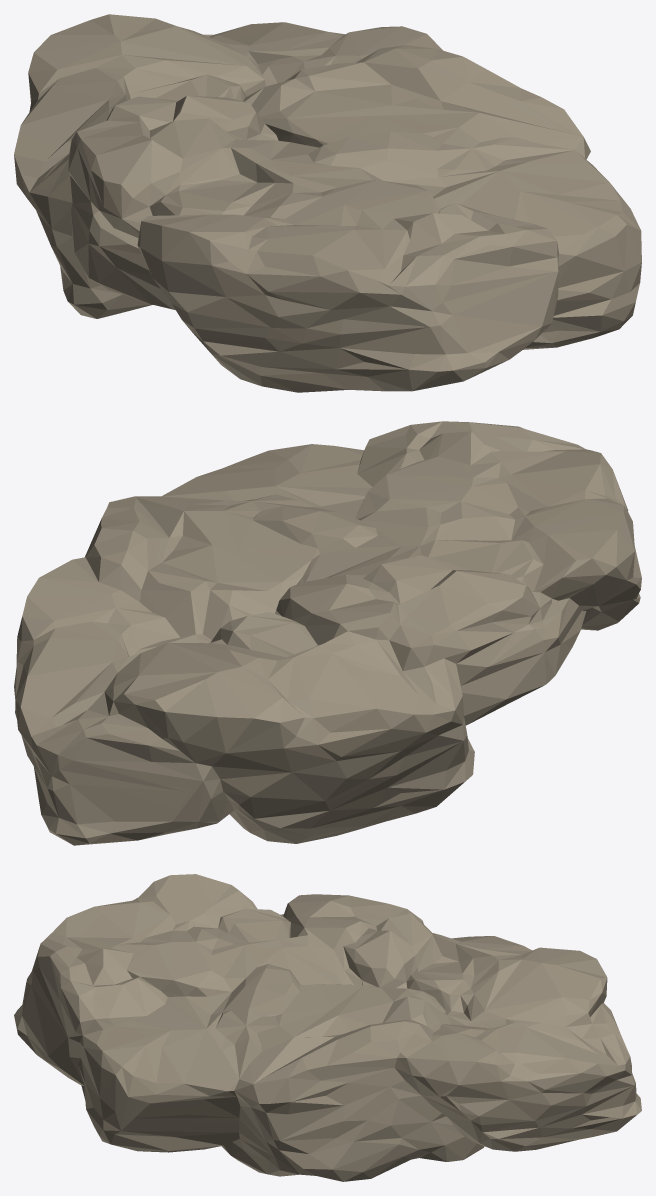
Rendered from SM_Rock_Cluster_Large_02.glb.
The picture shows the model from 3 angles, top to bottom: view 1: azimuth 30°, elevation 25°; view 2: azimuth 150°, elevation 25°; view 3: azimuth 270°, elevation 25°; orthographic projection. The views are drawn at different scales.
Visible parts, largest first — view 1: SM_Rock_Cluster_Large_02; view 2: SM_Rock_Cluster_Large_02; view 3: SM_Rock_Cluster_Large_02.
Part boxes in pixels (x1,y1,x2,y2): SM_Rock_Cluster_Large_02: (14, 14, 641, 392); SM_Rock_Cluster_Large_02: (14, 421, 641, 845); SM_Rock_Cluster_Large_02: (14, 874, 641, 1181).
Bounding box in the file's own units: 19.47 × 8.37 × 28.64.
1 material, 1 textured.
